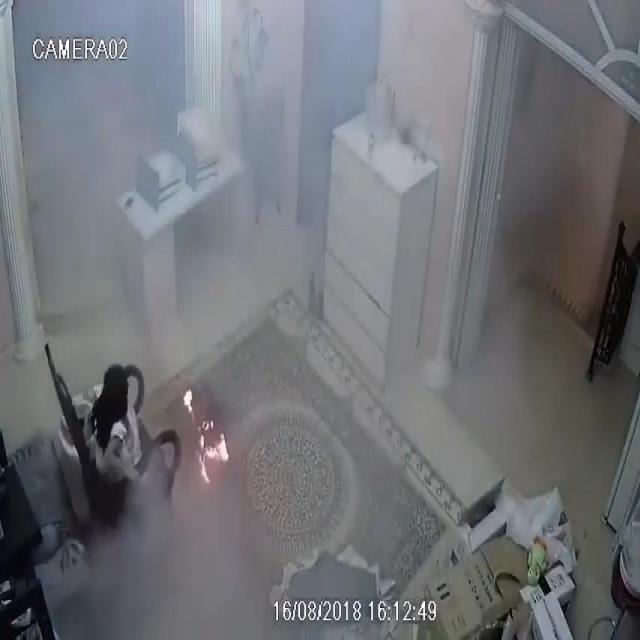fire: (198, 420, 228, 482), (183, 389, 192, 412)
